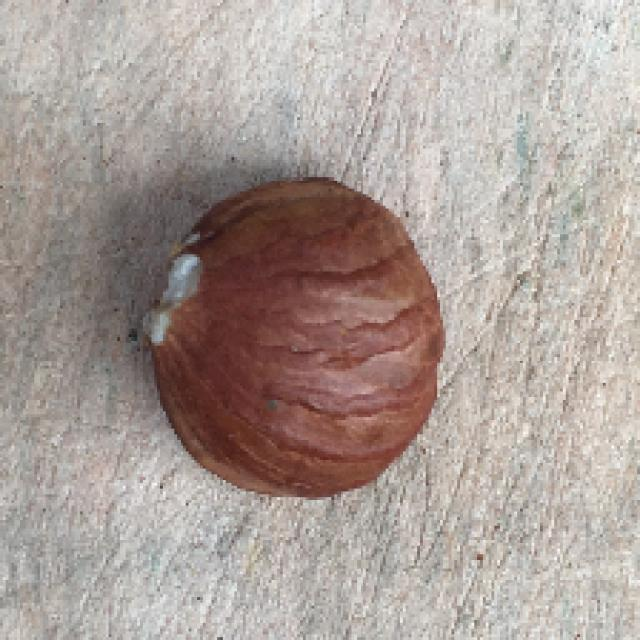hazelnut: (129, 175, 454, 491)
